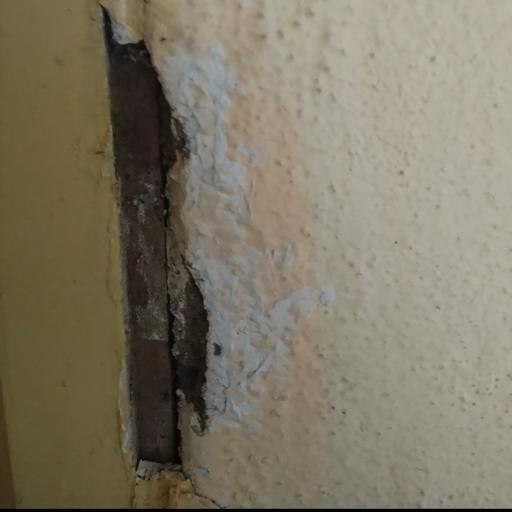spalling: (89, 0, 238, 493)
